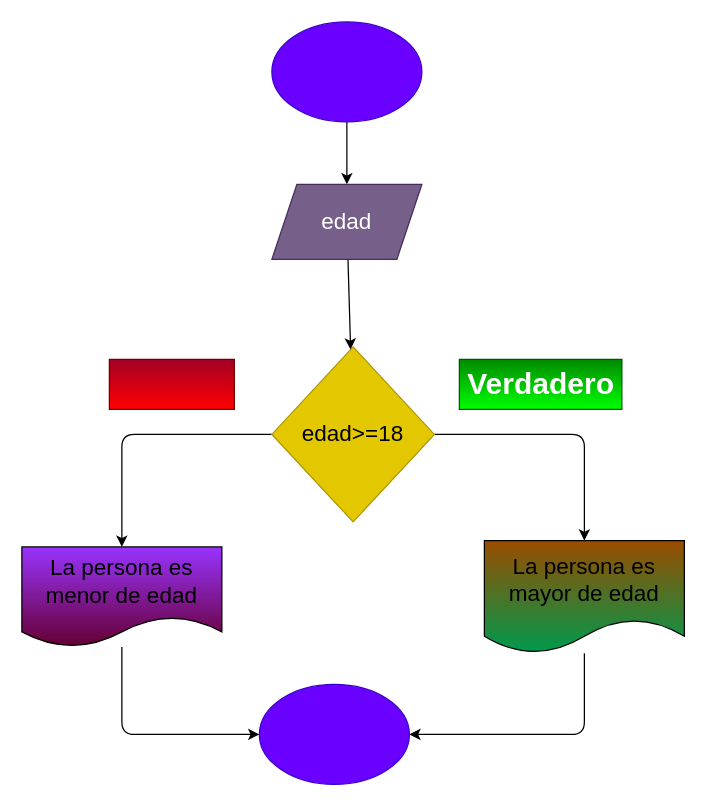
This 706x806 diagram has some shape labels left out. The centre of each missing label's shape, as x and y in pixels:
Falso: point (171, 383)
Fin: point (333, 733)
Inicio: point (346, 71)
